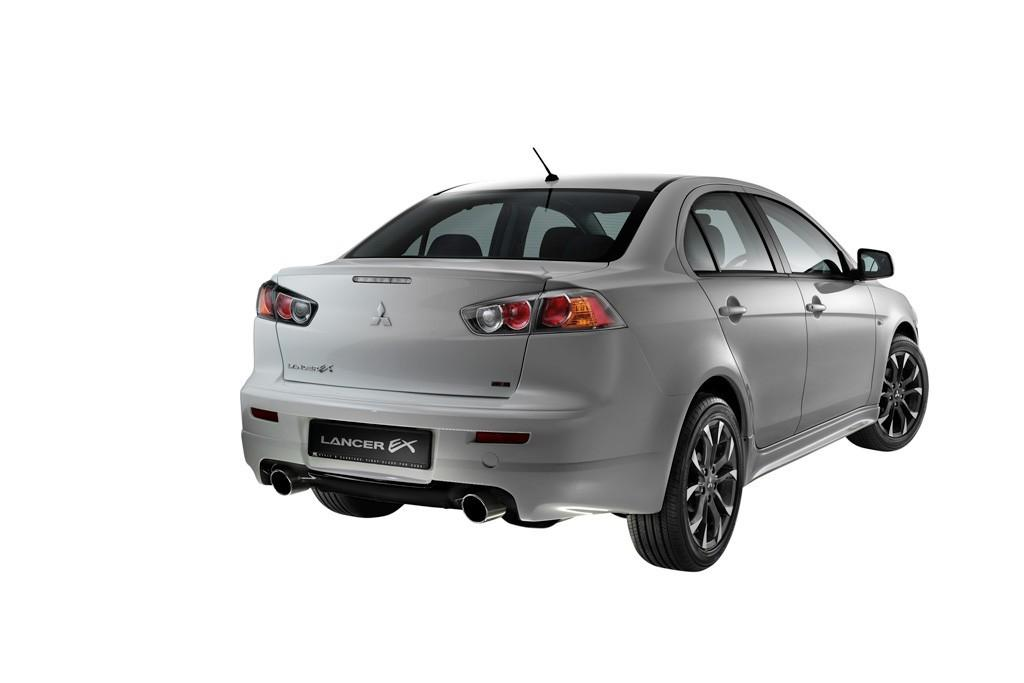Mitsubishi: (366, 293, 408, 337)
